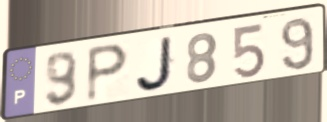5: (231, 20, 268, 80)
8: (185, 30, 221, 85)
9: (277, 15, 316, 72), (42, 50, 79, 109)
J: (133, 33, 177, 94)
P: (84, 41, 132, 105)
